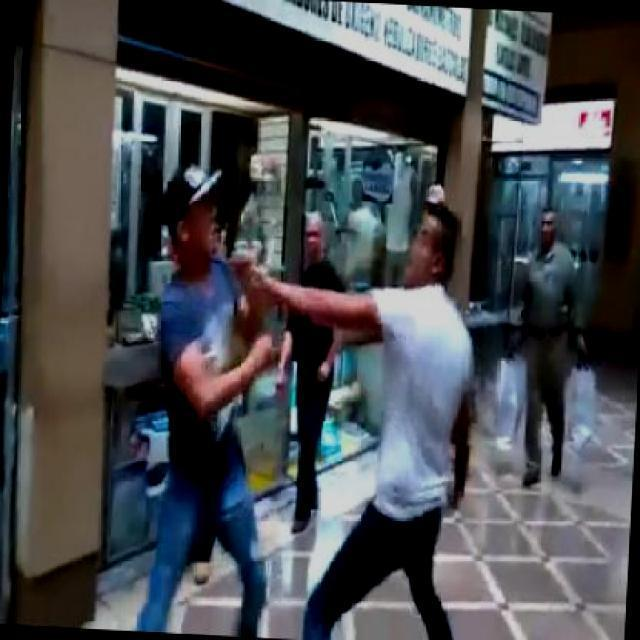fight: (137, 156, 490, 638)
